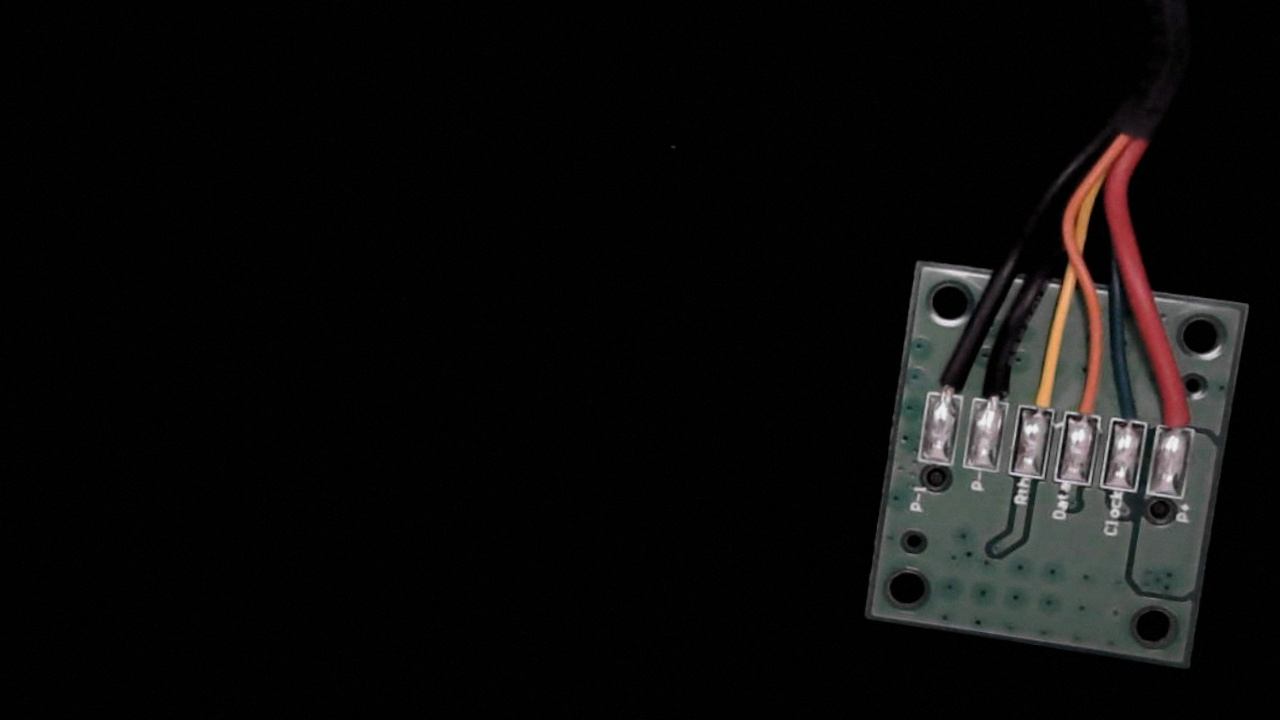Black: (973, 343, 1019, 419)
Black1: (926, 342, 972, 413)
Green: (1108, 368, 1158, 440)
Orange: (1064, 355, 1113, 432)
Red: (1152, 376, 1204, 445)
Yellow: (1018, 353, 1068, 426)
